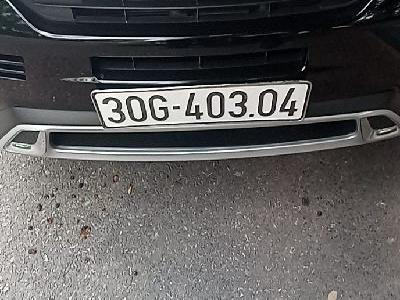lisence: (89, 79, 312, 130)
